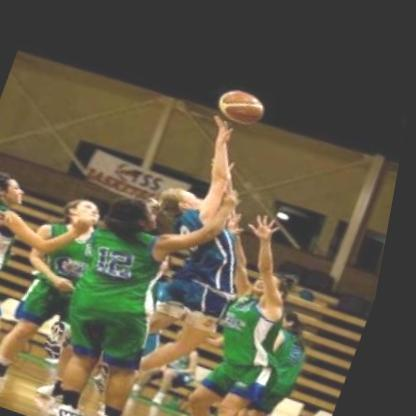basketball: (209, 70, 280, 132)
